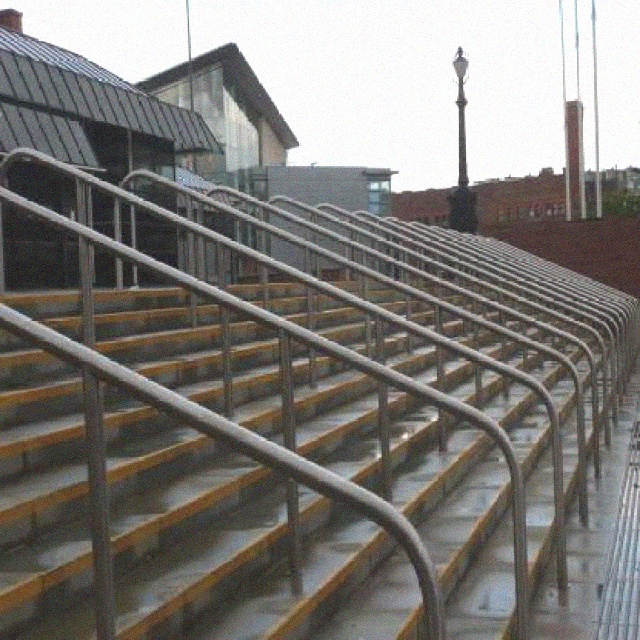stair: (0, 272, 636, 639)
